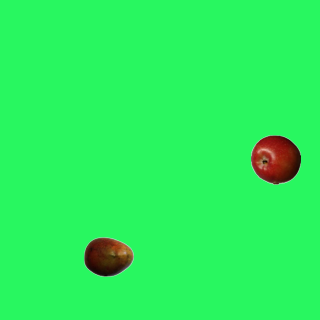Apple Braeburn: (250, 134, 300, 184)
Mango Red: (83, 231, 133, 281)
